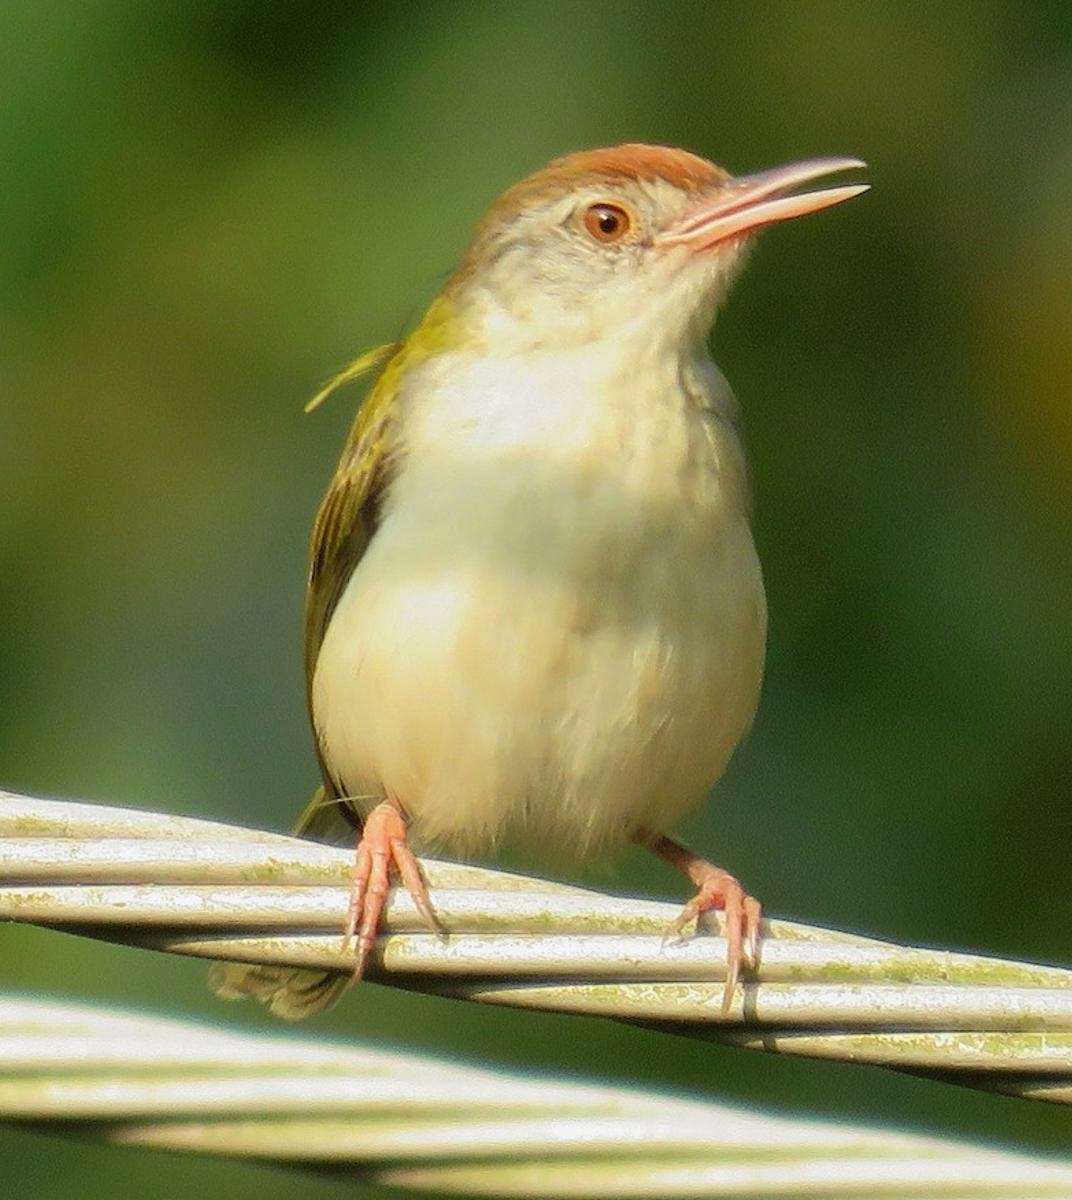tailorbird: (203, 106, 898, 1027)
